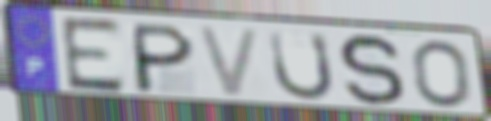E: (57, 15, 128, 95)
O: (409, 38, 474, 111)
P: (131, 21, 198, 96)
S: (336, 32, 409, 109)
U: (266, 28, 337, 103)
V: (194, 24, 265, 101)
